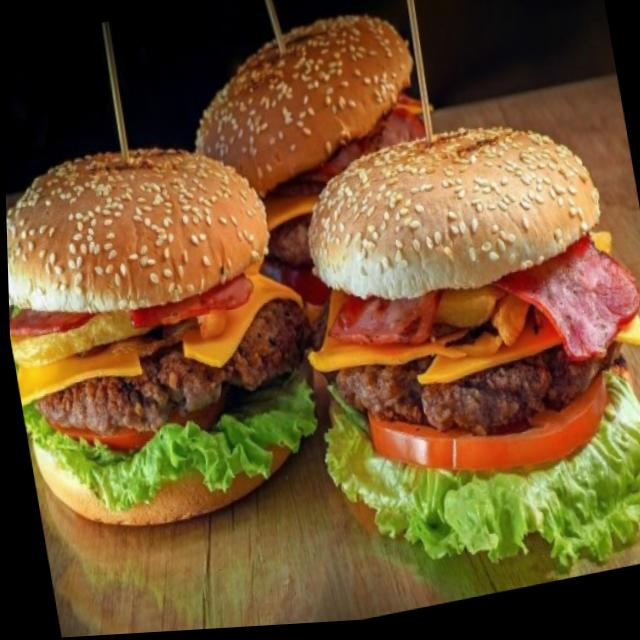burger: (265, 96, 640, 619), (3, 115, 334, 551), (172, 2, 461, 334)
